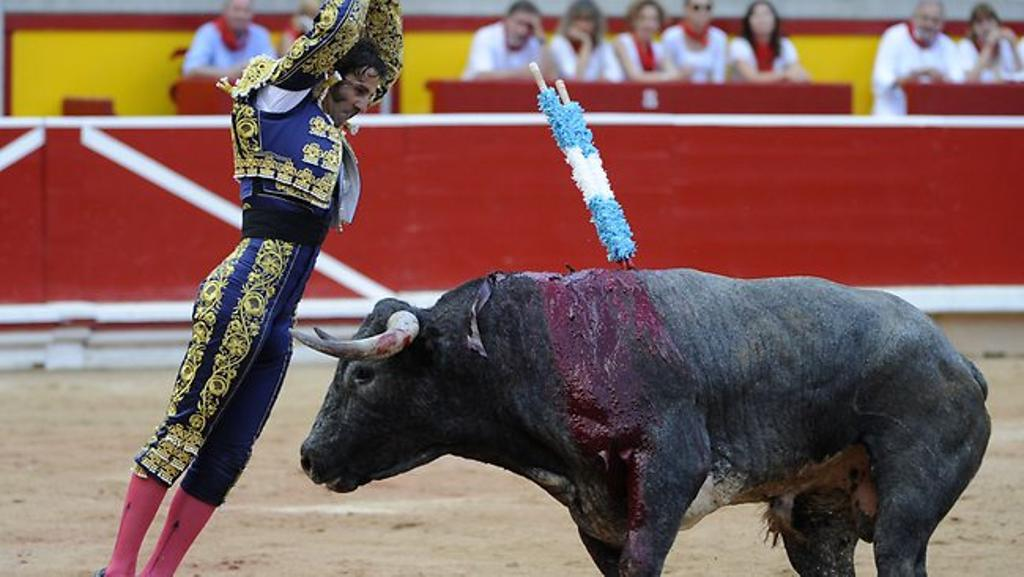face: (328, 65, 380, 127), (509, 12, 535, 46), (635, 6, 659, 39), (750, 5, 775, 34), (229, 1, 255, 27), (919, 6, 939, 38), (538, 12, 558, 43), (572, 11, 595, 36), (975, 15, 997, 41), (226, 24, 248, 50), (688, 4, 713, 26)
